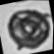correct: (0, 3, 54, 54)
